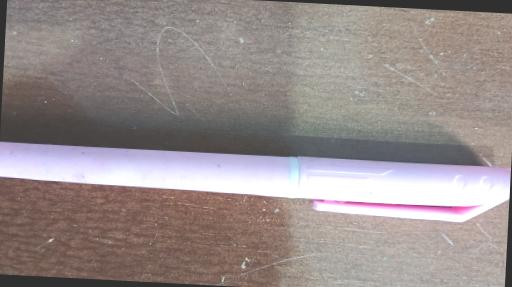pen: (0, 141, 511, 225)
